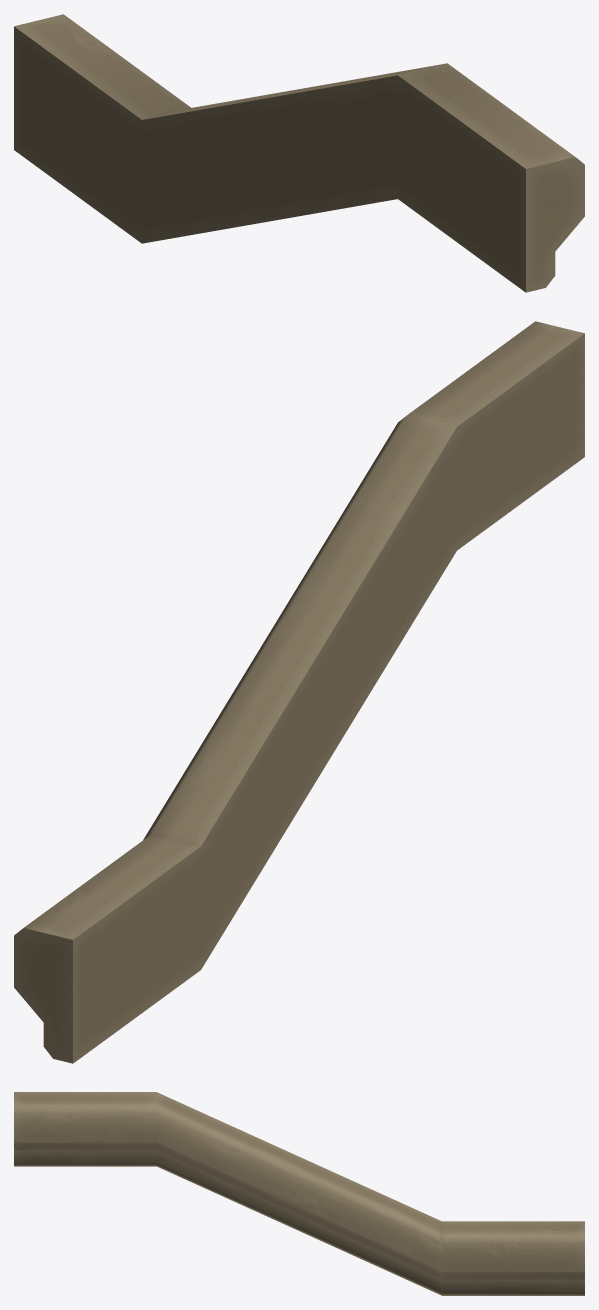
The model's file is ARC0510055.fbx.
3 views of the same model, one above another, from view 1: azimuth 30°, elevation 25°; view 2: azimuth 150°, elevation 25°; view 3: azimuth 270°, elevation 25° (orthographic). The views are drawn at different scales.
Visible parts, largest first — view 1: smARC0510055; view 2: smARC0510055; view 3: smARC0510055.
Part boxes in pixels (x1,y1,x2,y2): smARC0510055: (14, 14, 584, 292); smARC0510055: (14, 321, 584, 1063); smARC0510055: (14, 1092, 584, 1295).
Bounding box in the file's own units: 20 × 115 × 300.
1 material, 1 textured.
